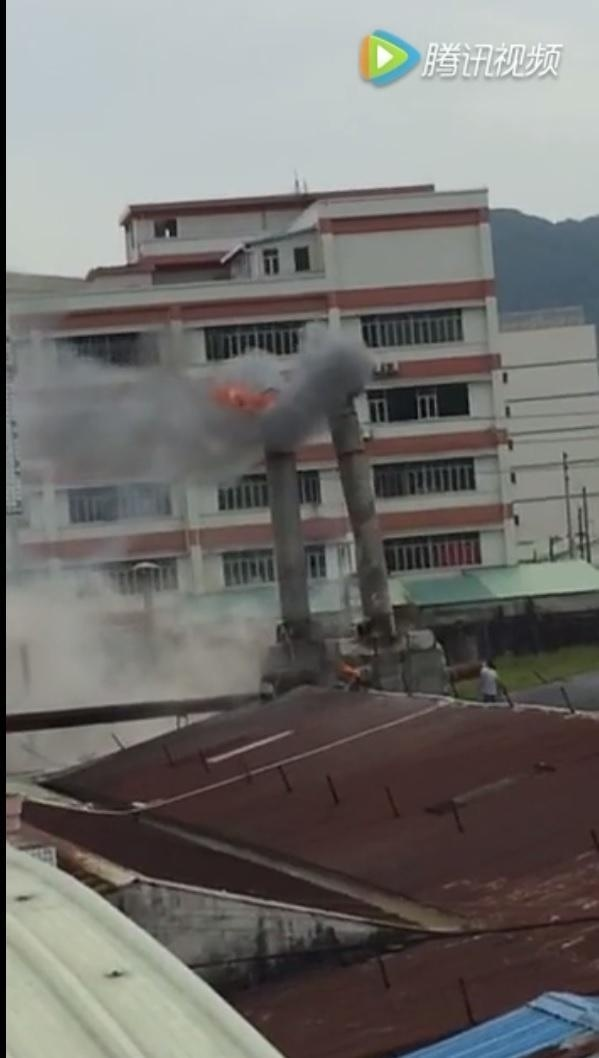fire: (335, 650, 373, 691)
